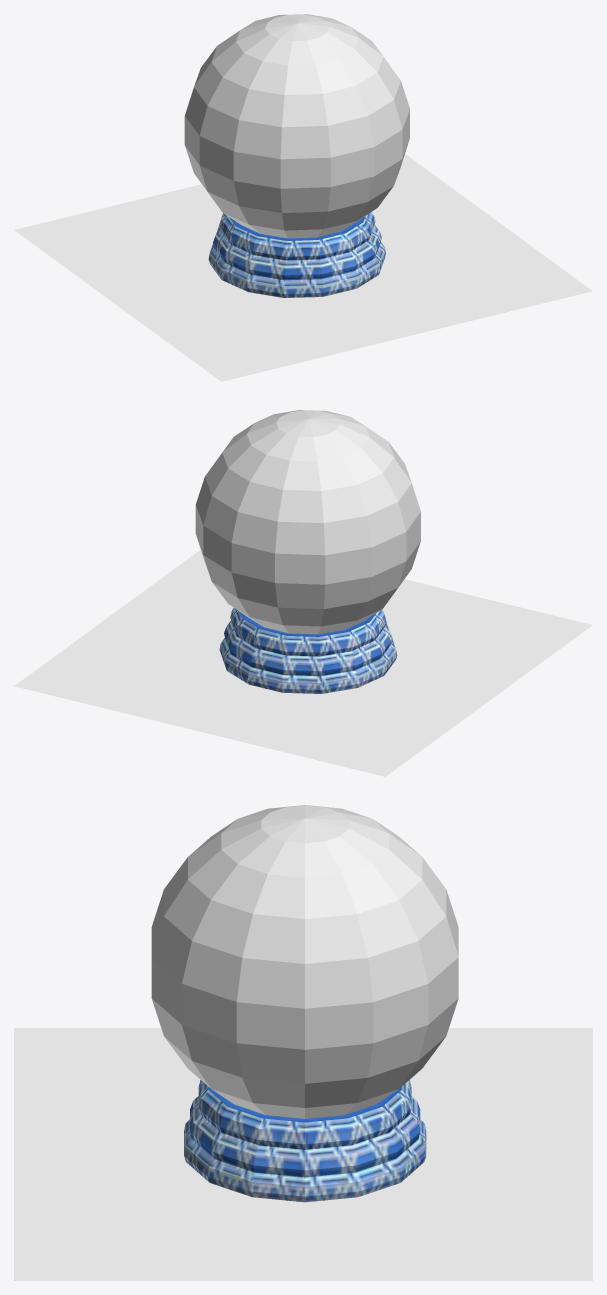
Rendered from ROOMITEMS025_ALL.obj.
3 renders of one model, top to bottom at view 1: azimuth 30°, elevation 25°; view 2: azimuth 150°, elevation 25°; view 3: azimuth 270°, elevation 25°, orthographic. The views are drawn at different scales.
Parts seen in each view (by area): view 1: _0_0, _2_0, _1_0; view 2: _0_0, _2_0, _1_0; view 3: _0_0, _2_0, _1_0.
Boxes of the visible parts, x1=… form: _0_0: x1=14, y1=154, x2=592, y2=381; _2_0: x1=184, y1=14, x2=409, y2=238; _1_0: x1=208, y1=212, x2=386, y2=297; _0_0: x1=14, y1=549, x2=592, y2=776; _2_0: x1=195, y1=410, x2=420, y2=634; _1_0: x1=219, y1=608, x2=397, y2=693; _0_0: x1=14, y1=1028, x2=592, y2=1280; _2_0: x1=151, y1=805, x2=458, y2=1118; _1_0: x1=184, y1=1080, x2=426, y2=1202.
Bounding box in the file's own units: 5.43 × 3.34 × 5.25.
Materials: 4 (4 with a texture image).
